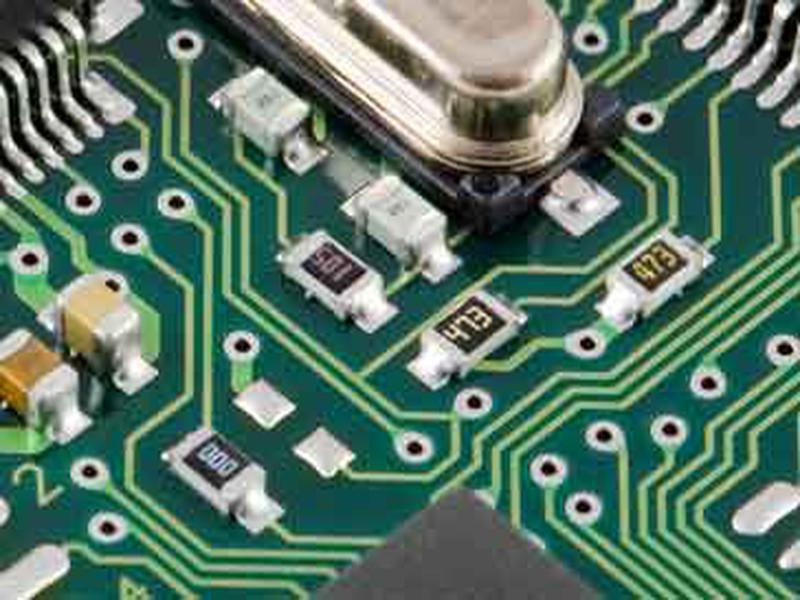SMD capacitor: (61, 281, 138, 367), (1, 334, 77, 418)
SMD resistor: (279, 228, 385, 332), (419, 293, 531, 378), (609, 225, 705, 315), (182, 430, 261, 514)
